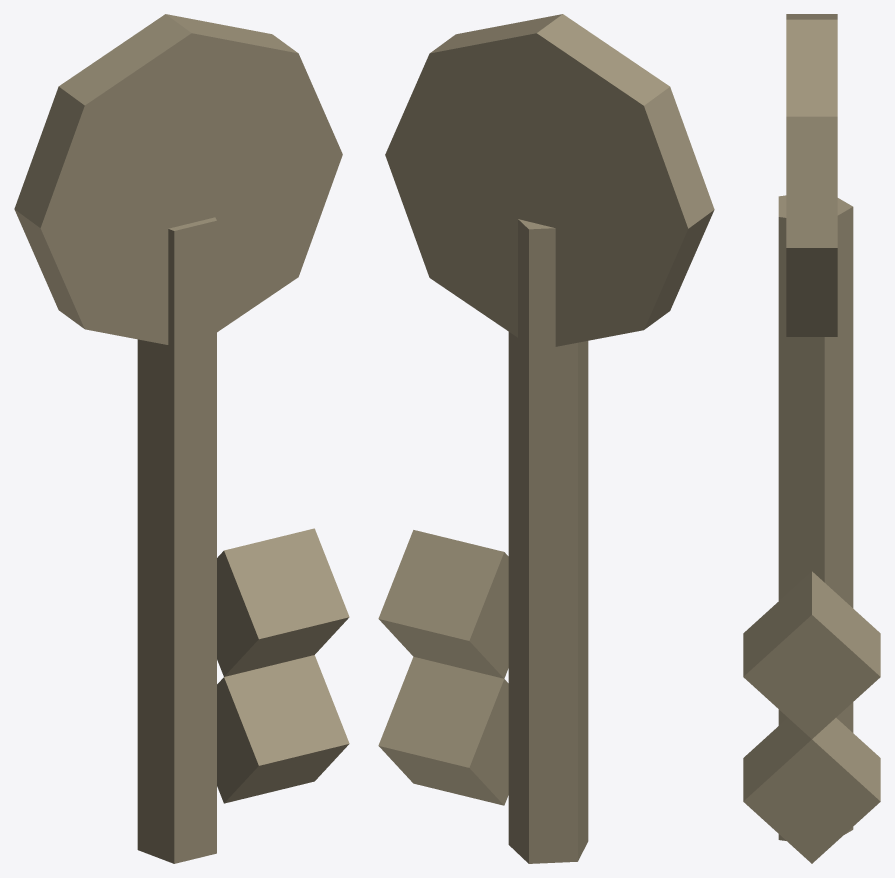
The model's file is chave.glb.
3 renders of one model, left to right at view 1: azimuth 30°, elevation 25°; view 2: azimuth 150°, elevation 25°; view 3: azimuth 270°, elevation 25°, orthographic.
Parts seen in each view (by area): view 1: Cylinder; view 2: Cylinder; view 3: Cylinder.
Part boxes in pixels (x1,y1,x2,y2): Cylinder: (14, 14, 349, 863); Cylinder: (378, 14, 714, 863); Cylinder: (743, 14, 880, 863).
Size of the model in its own units: 0.1 by 0.26 by 0.04.
